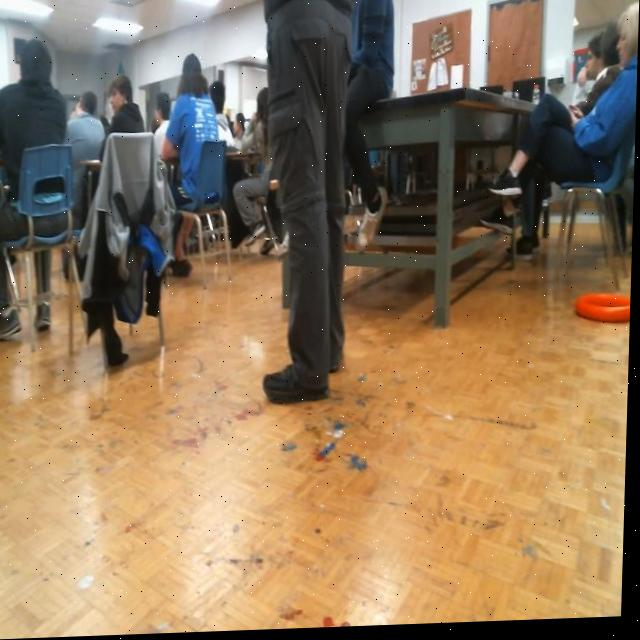note: (576, 294, 633, 330)
